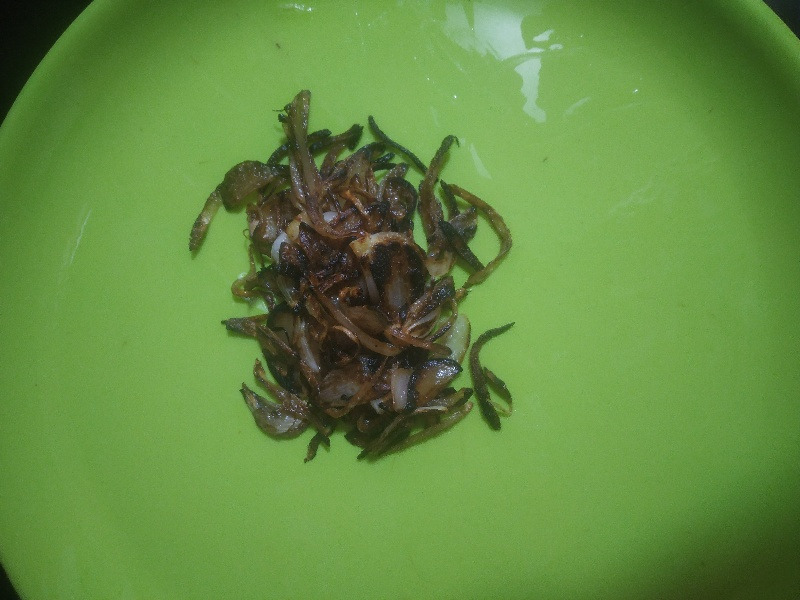onion_burnt: (195, 67, 550, 481)
